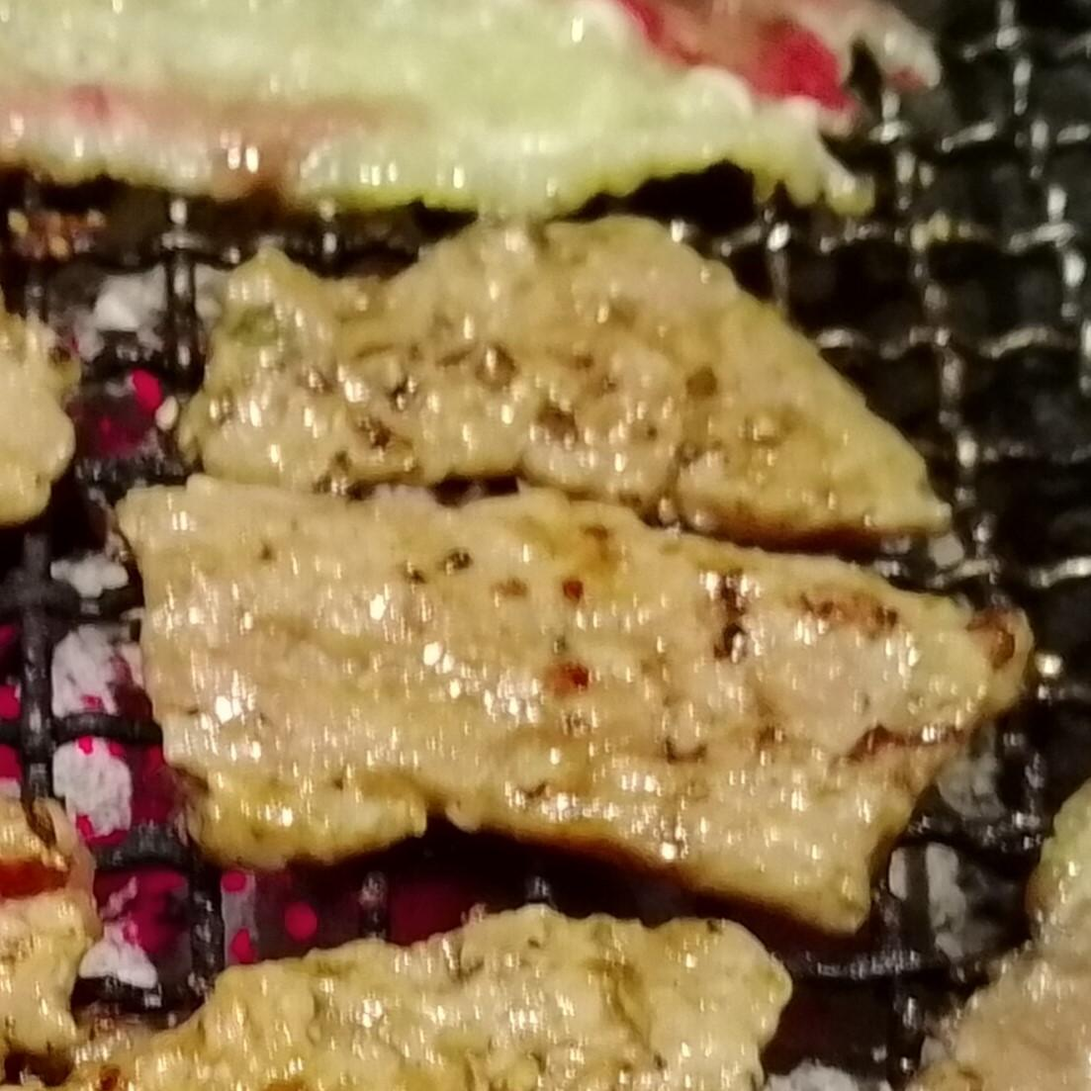Overcooked: (905, 783, 1090, 1090)
Undercooked: (0, 0, 912, 224)
Well-Cooked: (119, 478, 1015, 940), (175, 224, 951, 586), (135, 920, 660, 1090)
